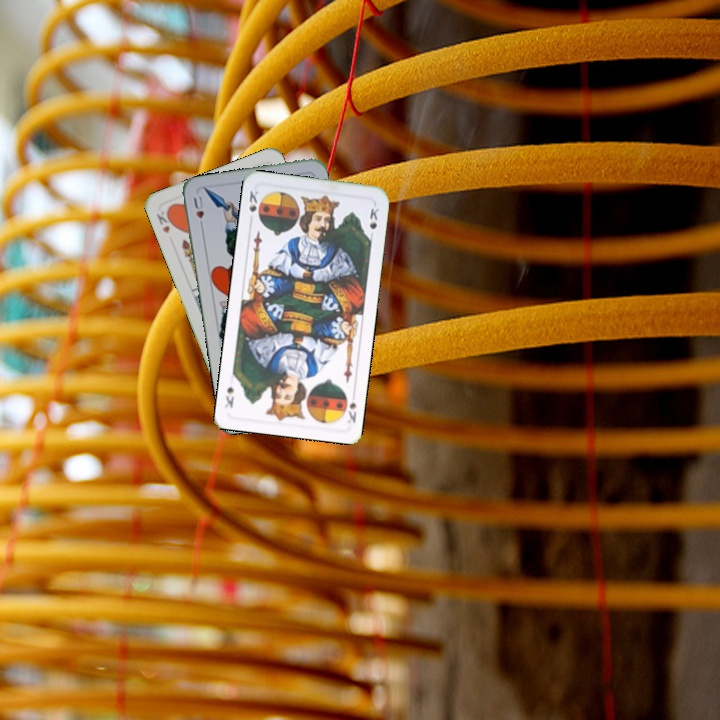HK: (152, 206, 176, 236)
HU: (190, 192, 206, 231)
SK: (245, 187, 261, 215), (344, 397, 359, 426)
